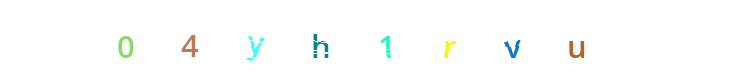0: (85, 0, 165, 80)
1: (335, 0, 415, 80)
4: (254, 0, 334, 80)
H: (318, 0, 398, 80)
R: (341, 0, 421, 80)
U: (408, 0, 488, 80)
V: (367, 0, 447, 80)
Y: (274, 0, 354, 80)
